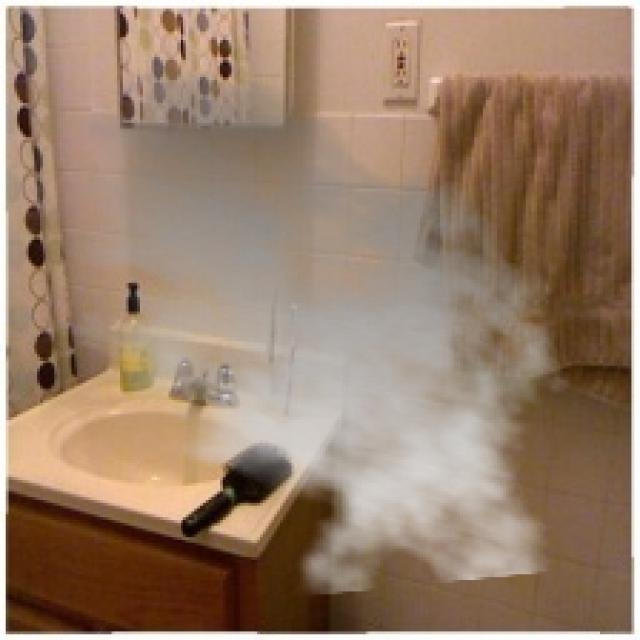smoke: (20, 63, 589, 597)
